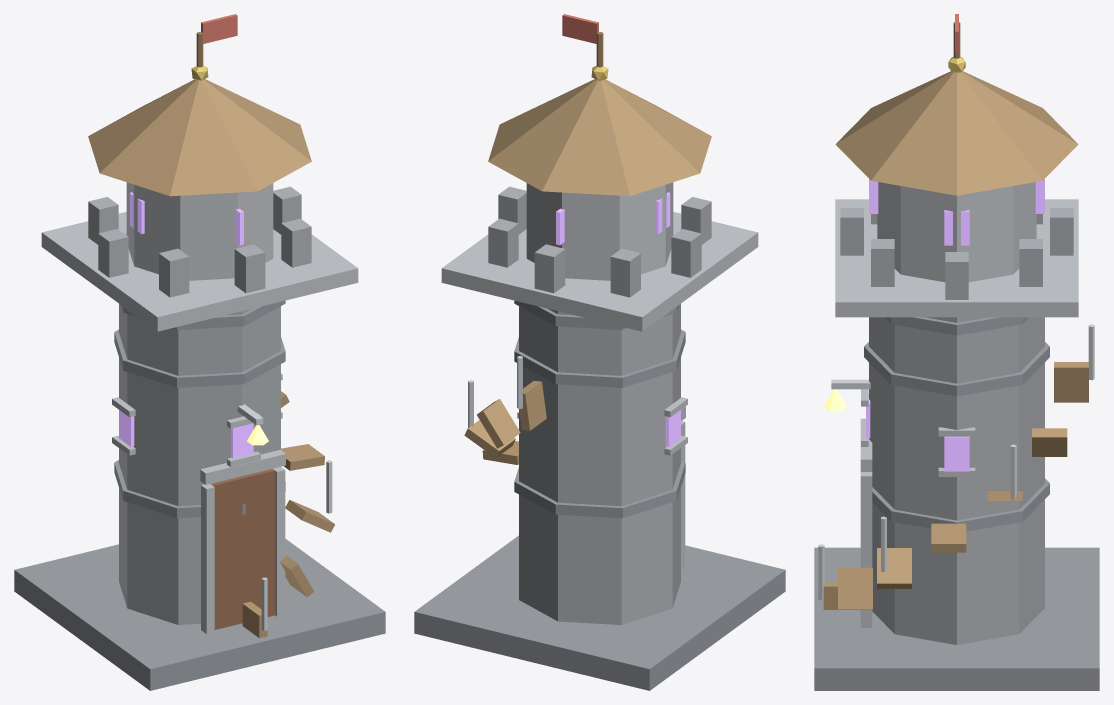
The model's file is watchtower_large.glb.
3 views of the same model, side by side, from view 1: azimuth 30°, elevation 25°; view 2: azimuth 150°, elevation 25°; view 3: azimuth 270°, elevation 25° (orthographic). The views are drawn at different scales.
Visible parts, largest first — view 1: shaft, plinth.003, roof, deck.001, cabin, door_leaf.002, band.001, door_jamb.004, door_jamb.005, merlon.018, merlon.016, merlon.019 (+12 smaller); view 2: shaft, plinth.003, roof, deck.001, cabin, band, band.001, merlon.014, merlon.016, merlon.013, merlon.015, stair.005 (+7 smaller); view 3: shaft, plinth.003, roof, deck.001, cabin, band.001, band, band.002, stair.001, door_jamb.005, stair.006, stair.002 (+9 smaller).
Boxes of the visible parts, box(x1,y1,x2,y2) form: shaft: box(119, 304, 280, 624); plinth.003: box(14, 538, 385, 690); roof: box(88, 79, 311, 196); deck.001: box(41, 212, 358, 331); cabin: box(126, 182, 273, 280); door_leaf.002: box(211, 469, 274, 629); band.001: box(114, 329, 285, 387); door_jamb.004: box(201, 484, 214, 633); door_jamb.005: box(273, 466, 285, 616); merlon.018: box(234, 244, 265, 293); merlon.016: box(98, 229, 128, 277); merlon.019: box(281, 218, 311, 267); shaft: box(519, 304, 680, 624); plinth.003: box(414, 535, 785, 690); roof: box(488, 79, 711, 196); deck.001: box(441, 212, 758, 331); cabin: box(526, 182, 673, 280); band: box(514, 460, 685, 518); band.001: box(514, 329, 685, 387); merlon.014: box(534, 244, 565, 293); merlon.016: box(671, 229, 701, 277); merlon.013: box(488, 218, 518, 267); merlon.015: box(610, 248, 640, 297); stair.005: box(477, 399, 520, 448); shaft: box(869, 317, 1044, 644); plinth.003: box(814, 547, 1099, 690); roof: box(835, 71, 1078, 195); deck.001: box(835, 199, 1078, 317); cabin: box(877, 182, 1036, 282); band.001: box(864, 342, 1049, 396); band: box(872, 478, 1049, 531); band.002: box(885, 317, 1028, 335); stair.001: box(838, 567, 872, 609); door_jamb.005: box(860, 472, 872, 627); stair.006: box(1054, 362, 1088, 402); stair.002: box(877, 548, 911, 588).
Bounding box in the file's own units: 3.4 × 8.13 × 3.4.
